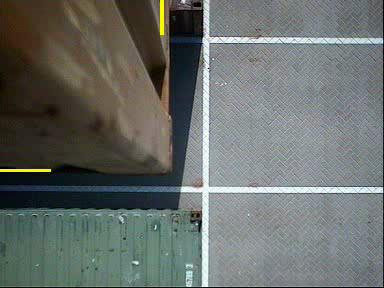groundmarker_2: (145, 82, 254, 172)
